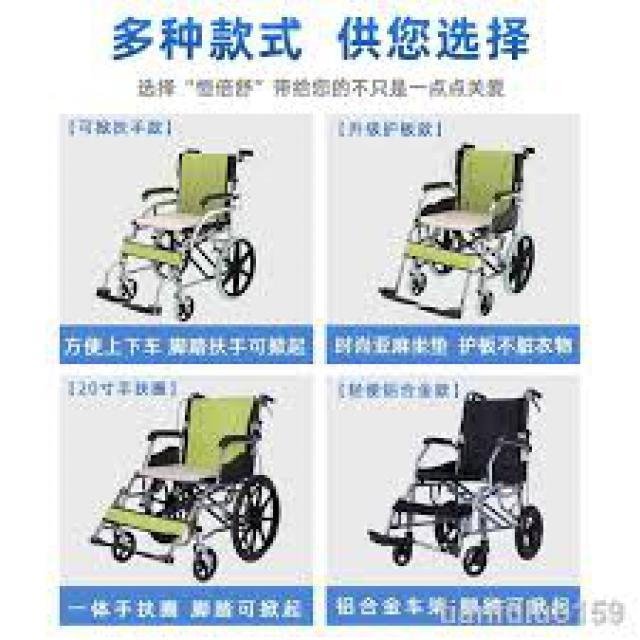wheelchair: (350, 378, 560, 578), (80, 383, 288, 578), (88, 136, 296, 322), (364, 136, 563, 318)
